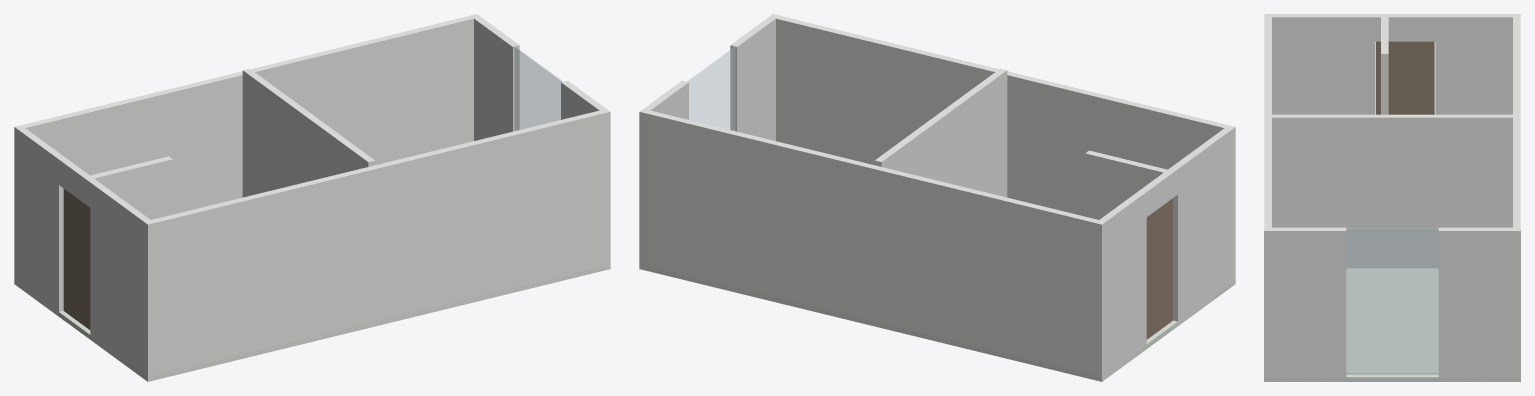
Rendered from house.glb.
3 renders of one model, left to right at view 1: azimuth 30°, elevation 25°; view 2: azimuth 150°, elevation 25°; view 3: azimuth 270°, elevation 25°, orthographic. The views are drawn at different scales.
Parts seen in each view (by area): view 1: wall_exterior_bottom, wall_exterior_top, wall_partition_center_vertical, wall_exterior_left_bottom, wall_exterior_left_top, wall_exterior_right_top, door_entrance, wall_partition_toilet_wash, floor_main, window_bedroom_right_glass, wall_exterior_right_bottom, wall_exterior_left_door_header; view 2: wall_exterior_top, wall_exterior_bottom, wall_exterior_left_bottom, wall_partition_center_vertical, wall_exterior_left_top, wall_exterior_right_bottom, door_entrance, wall_partition_toilet_wash, window_bedroom_right_glass, floor_main, wall_exterior_right_top, wall_exterior_left_door_header; view 3: wall_partition_center_vertical, window_bedroom_right_glass, wall_exterior_right_top, wall_exterior_right_bottom, wall_exterior_left_bottom, room_bedroom_floor, wall_exterior_left_top, door_entrance, wall_exterior_top, wall_exterior_bottom, wall_exterior_left_door_header, floor_main (+1 smaller).
Part boxes in pixels (x1,y1,x2,y2): wall_exterior_bottom: [144, 109, 608, 381]; wall_exterior_top: [14, 14, 480, 286]; wall_partition_center_vertical: [242, 68, 375, 197]; wall_exterior_left_bottom: [90, 183, 153, 375]; wall_exterior_left_top: [18, 128, 65, 316]; wall_exterior_right_top: [472, 14, 519, 140]; door_entrance: [63, 189, 90, 329]; wall_partition_toilet_wash: [90, 156, 172, 219]; floor_main: [14, 266, 603, 381]; window_bedroom_right_glass: [514, 46, 562, 130]; wall_exterior_right_bottom: [561, 80, 610, 270]; wall_exterior_left_door_header: [56, 156, 107, 214]; wall_exterior_top: [641, 109, 1105, 381]; wall_exterior_bottom: [769, 14, 1235, 286]; wall_exterior_left_bottom: [1173, 127, 1233, 325]; wall_partition_center_vertical: [874, 68, 1007, 197]; wall_exterior_left_top: [1099, 192, 1146, 378]; wall_exterior_right_bottom: [730, 14, 778, 140]; door_entrance: [1146, 198, 1172, 339]; wall_partition_toilet_wash: [1085, 150, 1167, 219]; window_bedroom_right_glass: [687, 46, 735, 130]; floor_main: [646, 266, 1235, 381]; wall_exterior_right_top: [639, 80, 688, 270]; wall_exterior_left_door_header: [1137, 159, 1188, 218]; wall_partition_center_vertical: [1272, 114, 1512, 268]; window_bedroom_right_glass: [1346, 228, 1438, 374]; wall_exterior_right_top: [1438, 227, 1520, 381]; wall_exterior_right_bottom: [1264, 227, 1346, 381]; wall_exterior_left_bottom: [1265, 14, 1374, 114]; room_bedroom_floor: [1346, 268, 1438, 373]; wall_exterior_left_top: [1435, 14, 1513, 114]; door_entrance: [1375, 41, 1434, 114]; wall_exterior_top: [1513, 14, 1520, 381]; wall_exterior_bottom: [1264, 14, 1271, 381]; wall_exterior_left_door_header: [1353, 14, 1440, 41]; floor_main: [1264, 374, 1520, 381].
Bounding box in the file's own units: 8 × 2.68 × 4.
